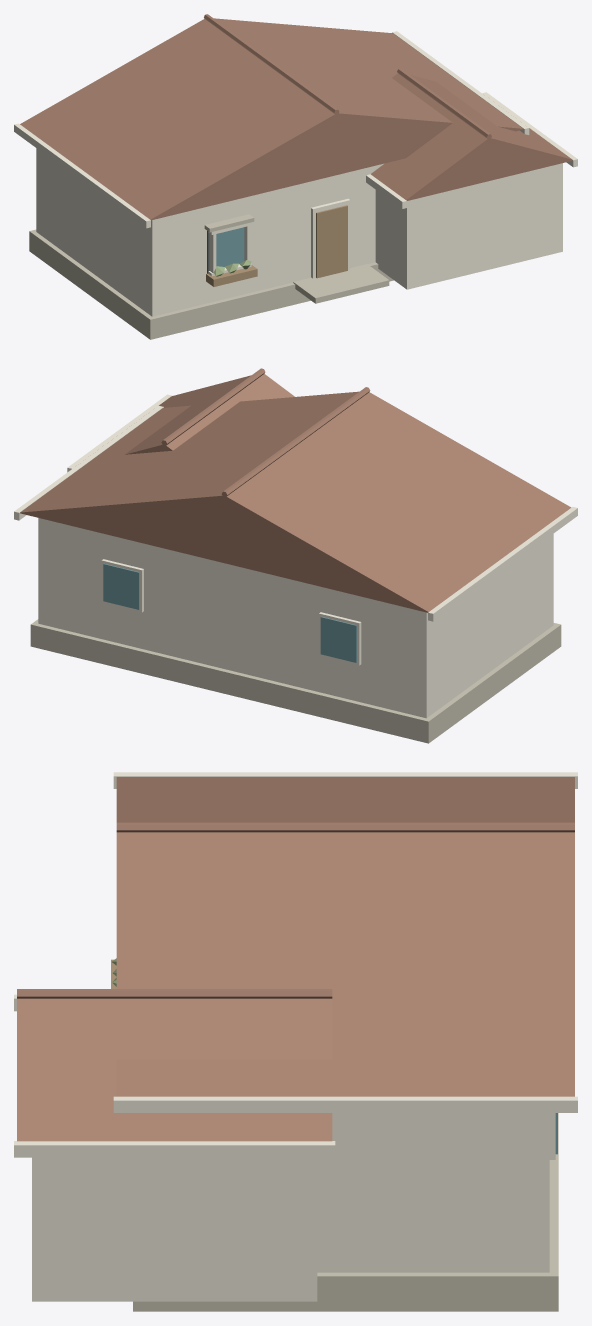
3 views of the same model, one above another, from view 1: azimuth 30°, elevation 25°; view 2: azimuth 150°, elevation 25°; view 3: azimuth 270°, elevation 25° (orthographic). The views are drawn at different scales.
Size of the model in its own units: 13.65 by 6.11 by 9.41.
